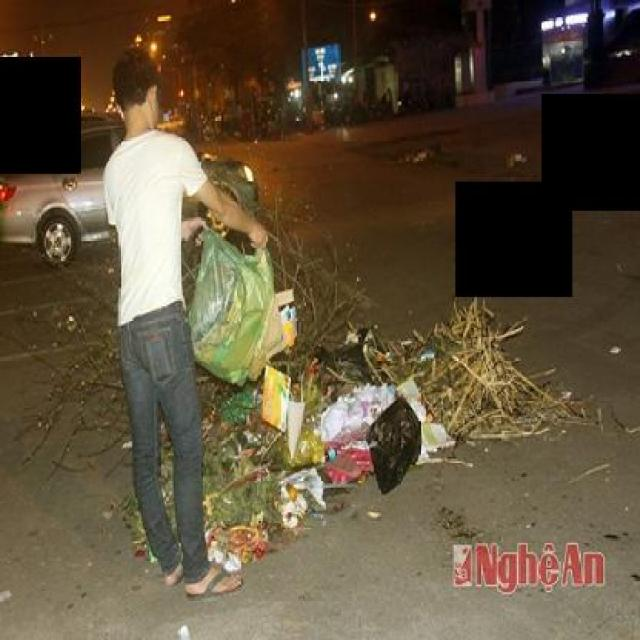plastic bag: (205, 380, 492, 563), (183, 210, 280, 392), (366, 396, 422, 492)
